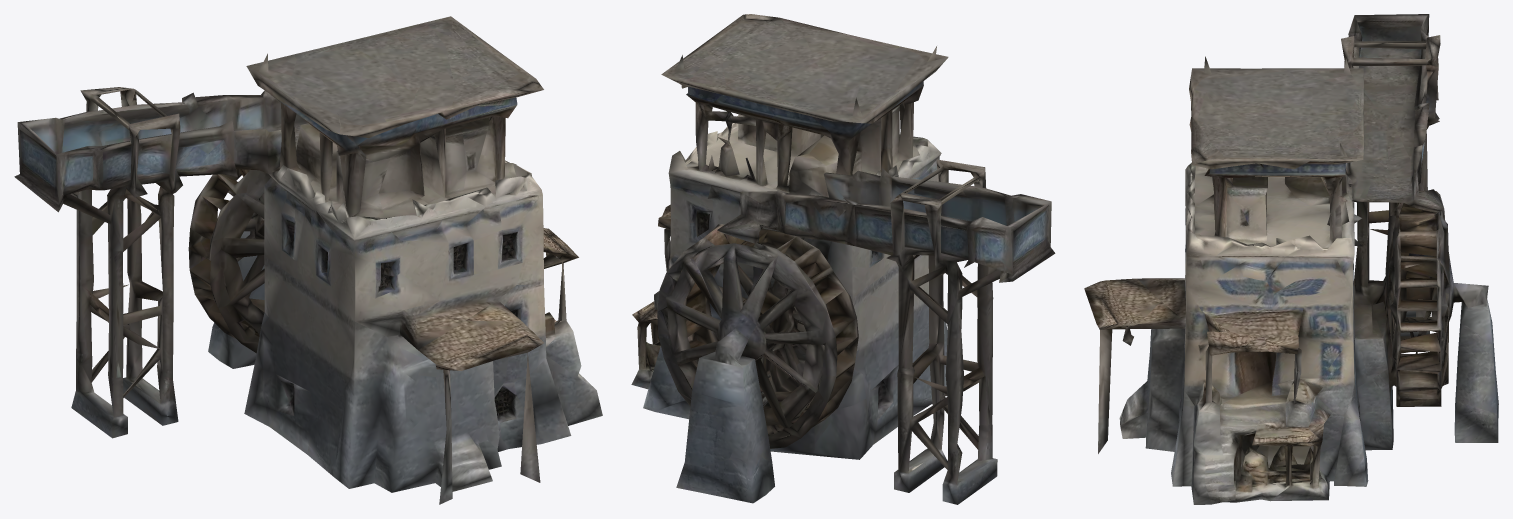
The model's file is watermill.glb.
3 views of the same model, side by side, from view 1: azimuth 30°, elevation 25°; view 2: azimuth 150°, elevation 25°; view 3: azimuth 270°, elevation 25° (orthographic). The views are drawn at different scales.
Visible parts, largest first — view 1: tripo_node_9e4cb015-34b8-46d8-992b-6df5864349bc; view 2: tripo_node_9e4cb015-34b8-46d8-992b-6df5864349bc; view 3: tripo_node_9e4cb015-34b8-46d8-992b-6df5864349bc.
Boxes of the visible parts, x1,y1,x2,y2 form: tripo_node_9e4cb015-34b8-46d8-992b-6df5864349bc: (14,16,602,504); tripo_node_9e4cb015-34b8-46d8-992b-6df5864349bc: (631,14,1055,504); tripo_node_9e4cb015-34b8-46d8-992b-6df5864349bc: (1084,14,1498,504).
Size of the model in its own units: 0.9764 by 0.7474 by 0.8299.
1 material, 1 textured.
